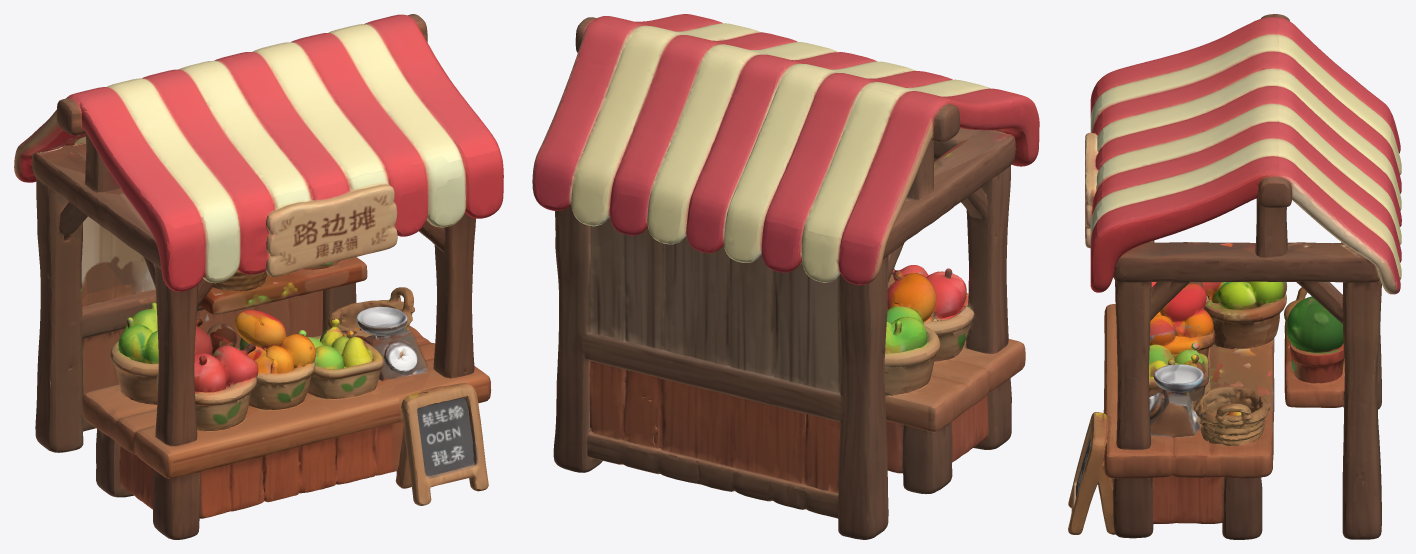
Rendered from bld_stall.glb.
3 views of the same model, side by side, from view 1: azimuth 30°, elevation 25°; view 2: azimuth 150°, elevation 25°; view 3: azimuth 270°, elevation 25° (orthographic). The views are drawn at different scales.
Visible parts, largest first — view 1: geometry_0; view 2: geometry_0; view 3: geometry_0.
Part boxes in pixels (bbox=[...]): geometry_0: bbox=[14, 14, 503, 539]; geometry_0: bbox=[532, 14, 1039, 539]; geometry_0: bbox=[1068, 14, 1401, 539].
Bounding box in the file's own units: 0.3652 × 0.38 × 0.3046.
Materials: 1 (1 with a texture image).
